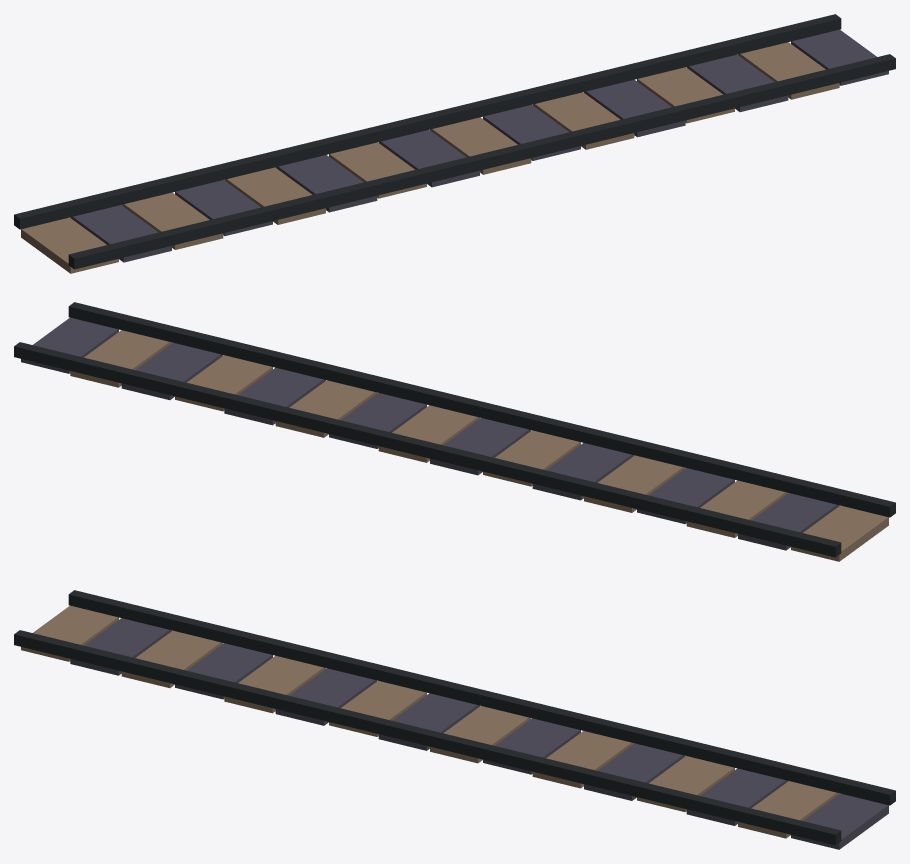
File: bridge.glb
3 views of the same model, one above another, from view 1: azimuth 30°, elevation 25°; view 2: azimuth 150°, elevation 25°; view 3: azimuth 330°, elevation 25° (orthographic).
Visible parts, largest first — view 1: P0; view 2: P0; view 3: P0.
Part boxes in pixels (x1,y1,x2,y2): P0: (14, 14, 895, 273); P0: (14, 302, 895, 561); P0: (14, 590, 895, 849).
Bounding box in the file's own units: 8 × 0.18 × 1.02.
